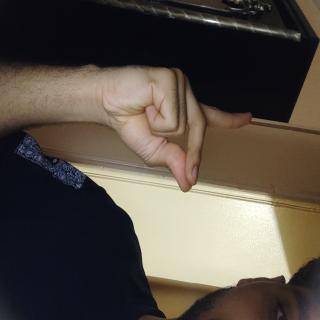TAA: (44, 89, 148, 320)
